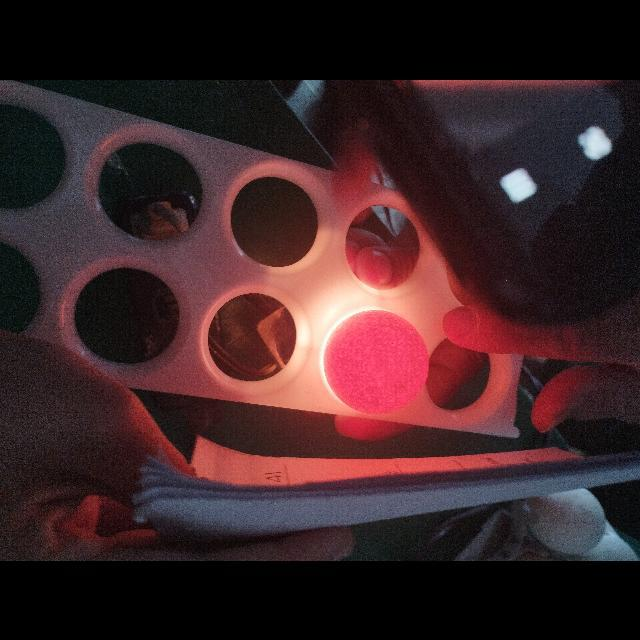Infertile: (330, 314, 424, 408)
